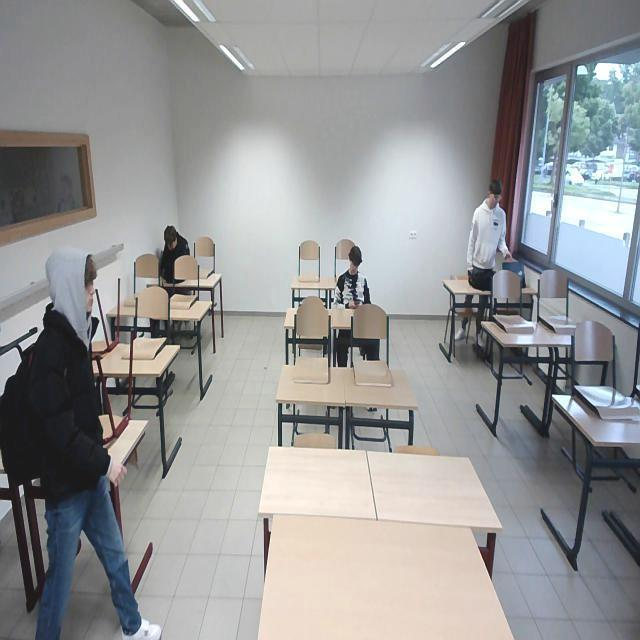Looking away: (47, 252, 93, 315), (490, 180, 502, 211)
Phone use: (333, 244, 373, 311), (158, 224, 190, 278)
